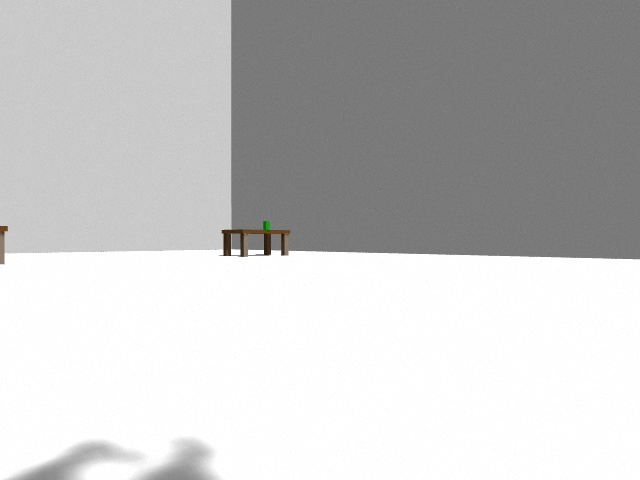green_cube: (263, 221, 270, 230)
